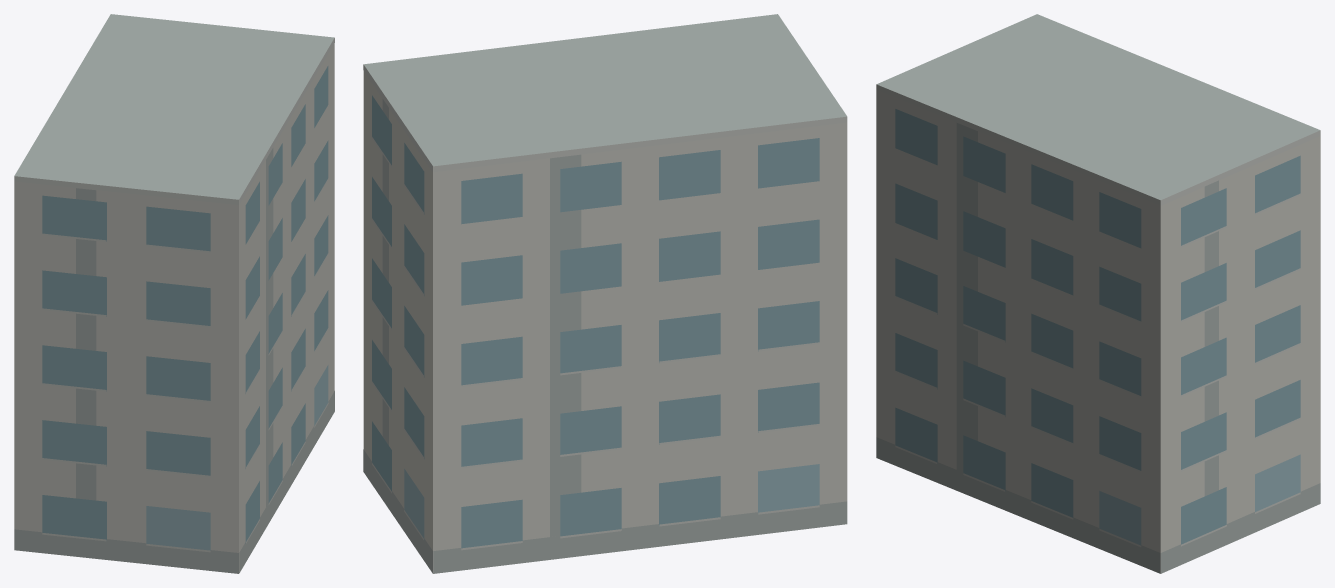
File: survey-upis-33036013.glb
3 views of the same model, side by side, from view 1: azimuth 30°, elevation 25°; view 2: azimuth 150°, elevation 25°; view 3: azimuth 270°, elevation 25° (orthographic). The views are drawn at different scales.
Parts seen in each view (by area): view 1: survey-upis-33036013.tmp; view 2: survey-upis-33036013.tmp; view 3: survey-upis-33036013.tmp.
Part boxes in pixels (box(x1,y1,x2,y2)): survey-upis-33036013.tmp: box(14, 14, 334, 573); survey-upis-33036013.tmp: box(363, 14, 847, 573); survey-upis-33036013.tmp: box(876, 14, 1320, 573).
Size of the model in its own units: 17.66 by 16.5 by 17.79.
